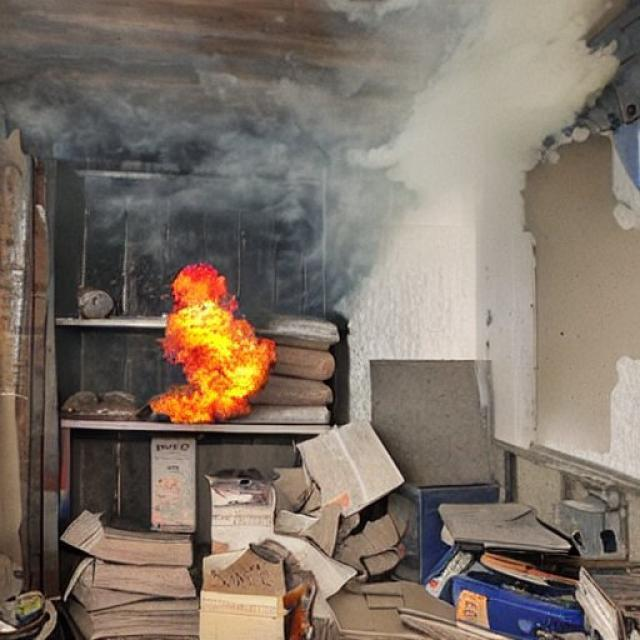Fire: (150, 254, 276, 428)
Smoke: (44, 14, 592, 296)
